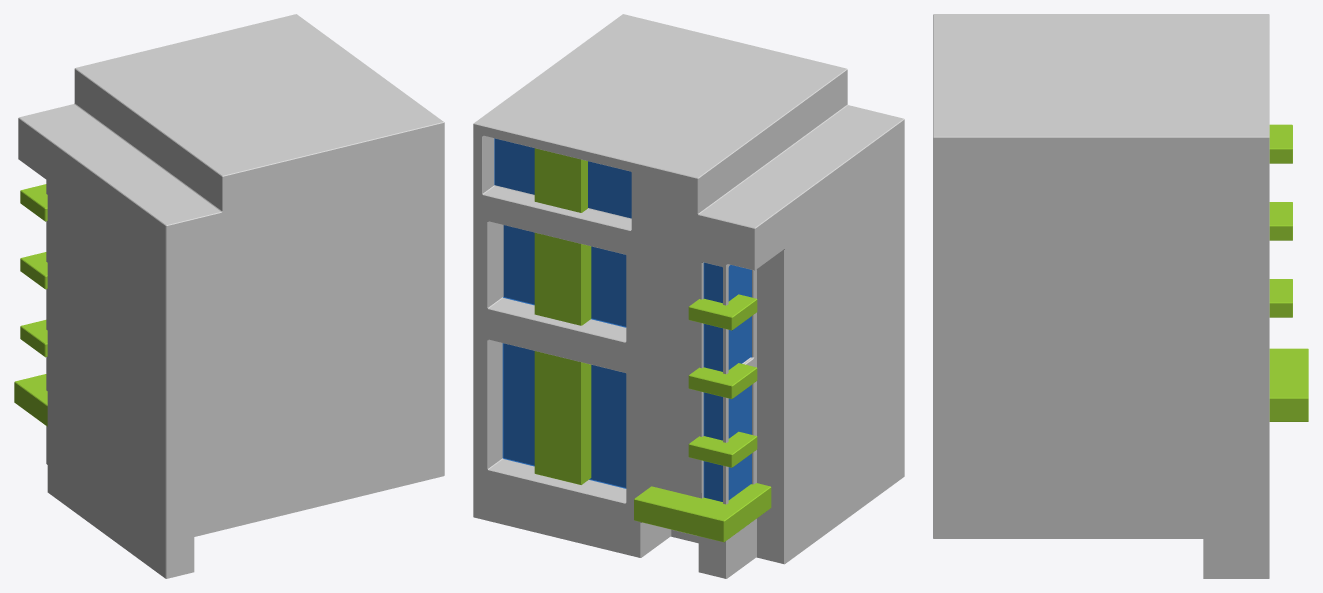
The model's file is Building_2.fbx.
3 renders of one model, left to right at view 1: azimuth 30°, elevation 25°; view 2: azimuth 150°, elevation 25°; view 3: azimuth 270°, elevation 25°, orthographic. The views are drawn at different scales.
Parts seen in each view (by area): view 1: Cube.019; view 2: Cube.019; view 3: Cube.019.
Boxes of the visible parts, x1,y1,x2,y2 form: Cube.019: [14, 14, 444, 578]; Cube.019: [473, 14, 904, 578]; Cube.019: [933, 14, 1308, 578].
Bounding box in the file's own units: 4.76 × 4.89 × 6.35.
